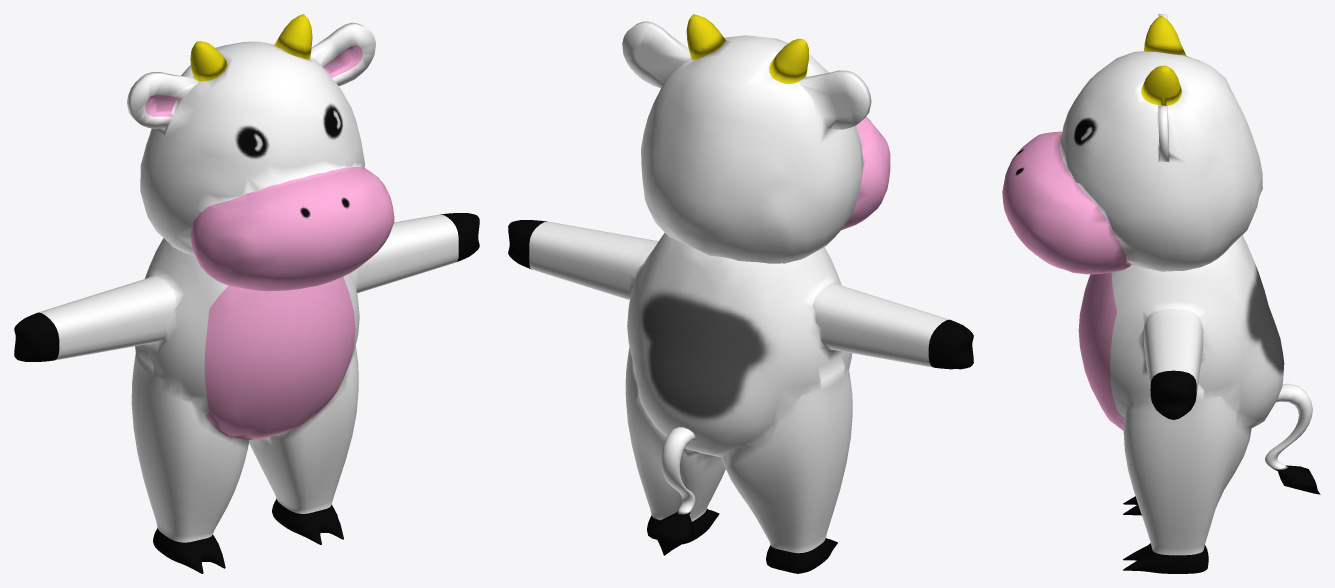
Rendered from vaca.glb.
3 views of the same model, side by side, from view 1: azimuth 30°, elevation 25°; view 2: azimuth 150°, elevation 25°; view 3: azimuth 270°, elevation 25° (orthographic). The views are drawn at different scales.
Visible parts, largest first — view 1: Mball.001, Mball.002; view 2: Mball.001, Mball.002, BezierCurve; view 3: Mball.002, Mball.001, BezierCurve.
Boxes of the visible parts, bbox=[...] form: Mball.001: bbox=[14, 213, 479, 573]; Mball.002: bbox=[127, 14, 394, 291]; Mball.001: bbox=[508, 220, 973, 573]; Mball.002: bbox=[622, 14, 890, 263]; BezierCurve: bbox=[652, 427, 695, 555]; Mball.002: bbox=[1002, 14, 1262, 274]; Mball.001: bbox=[1078, 235, 1284, 573]; BezierCurve: bbox=[1265, 383, 1320, 494].
Size of the model in its own units: 4.77 by 5.06 by 2.94.
Materials: 2 (1 with a texture image).
